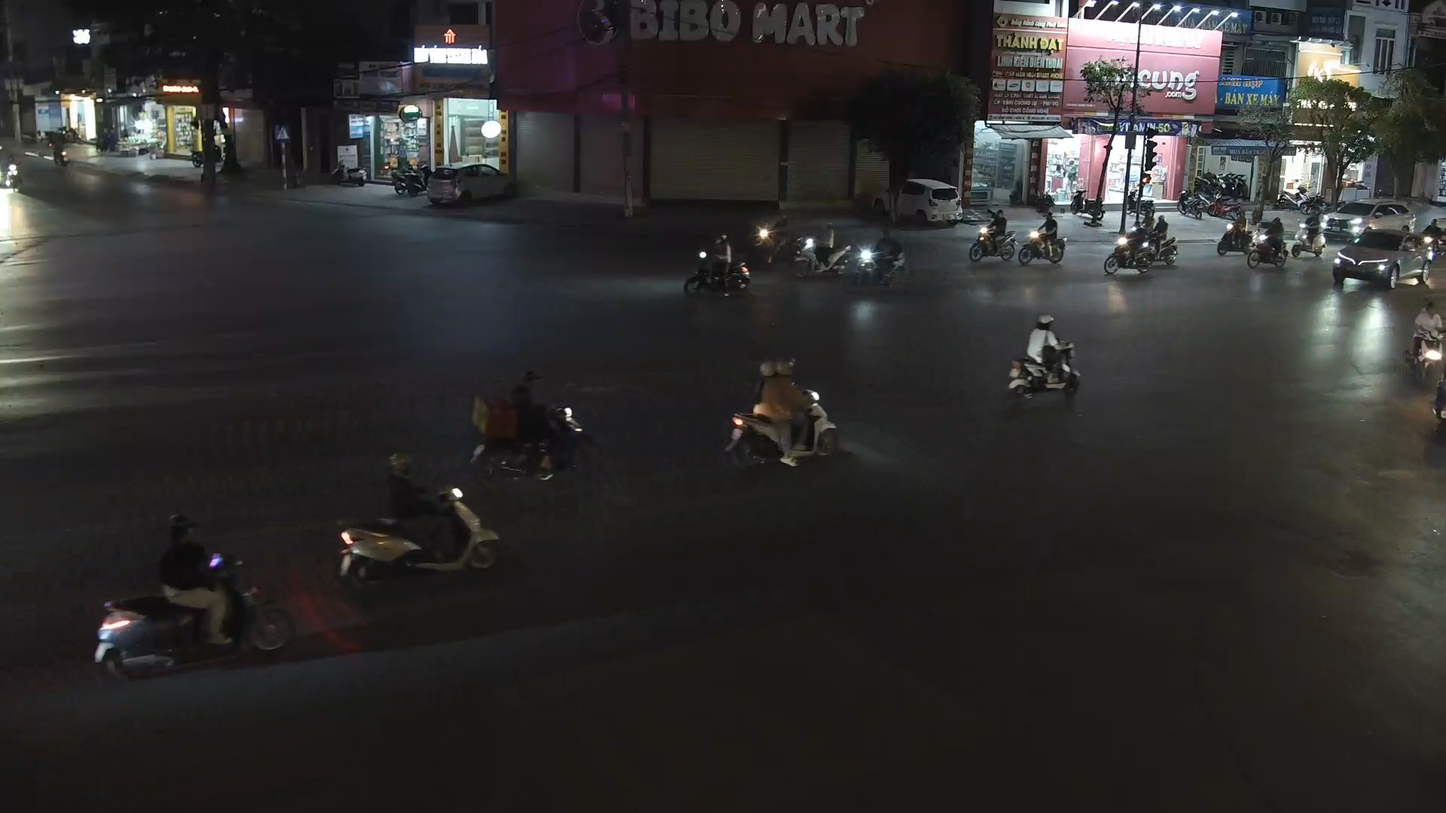car: (1331, 218, 1434, 292)
motorbike: (93, 511, 292, 679), (336, 448, 502, 591), (467, 366, 597, 486), (720, 356, 842, 475), (1004, 311, 1083, 410), (682, 231, 753, 298), (792, 227, 861, 279), (1408, 297, 1445, 385), (1102, 217, 1155, 278), (966, 209, 1021, 265), (1017, 210, 1068, 266), (1429, 351, 1445, 449)
